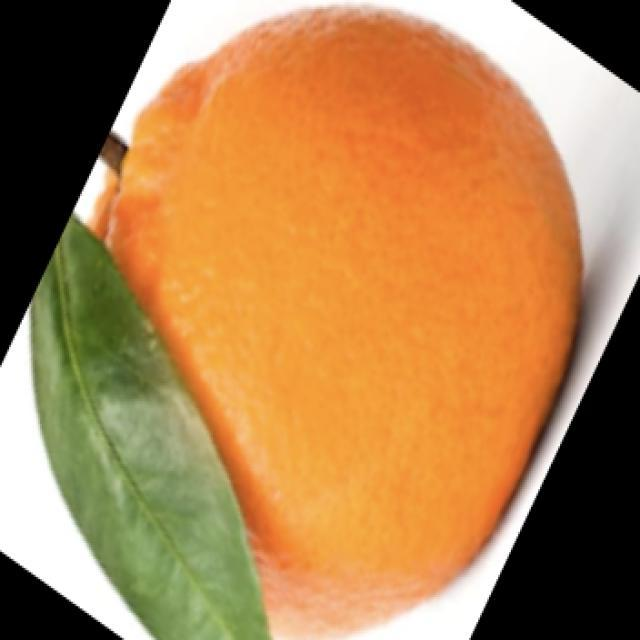matang: (32, 8, 580, 639)
